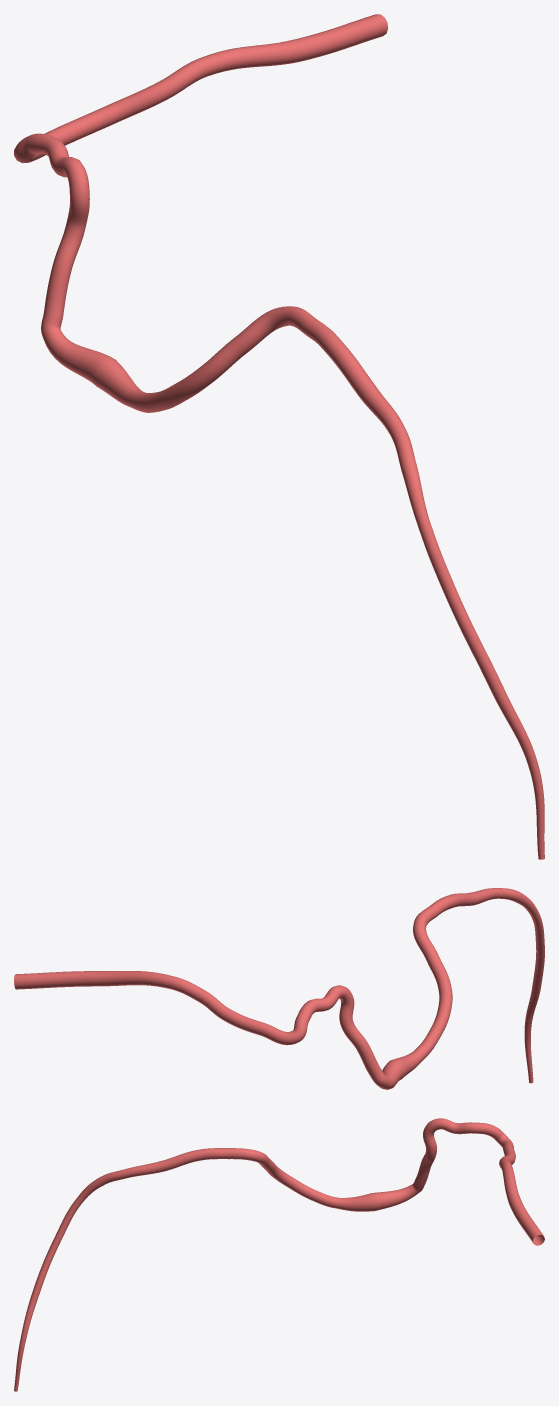
File: Anterior_ethmoidal_artery.l_BezierCurve.358.glb
The picture shows the model from 3 angles, top to bottom: view 1: azimuth 30°, elevation 25°; view 2: azimuth 150°, elevation 25°; view 3: azimuth 270°, elevation 25°; orthographic projection. The views are drawn at different scales.
Visible parts, largest first — view 1: Anterior_ethmoidal_artery.l_BezierCurve.358; view 2: Anterior_ethmoidal_artery.l_BezierCurve.358; view 3: Anterior_ethmoidal_artery.l_BezierCurve.358.
Boxes of the visible parts, left/top/right/bottom form: Anterior_ethmoidal_artery.l_BezierCurve.358: left=14, top=14, right=544, bottom=859; Anterior_ethmoidal_artery.l_BezierCurve.358: left=14, top=888, right=544, bottom=1089; Anterior_ethmoidal_artery.l_BezierCurve.358: left=14, top=1118, right=544, bottom=1391.
Size of the model in its own units: 0.0157 by 0.0152 by 0.0287.
